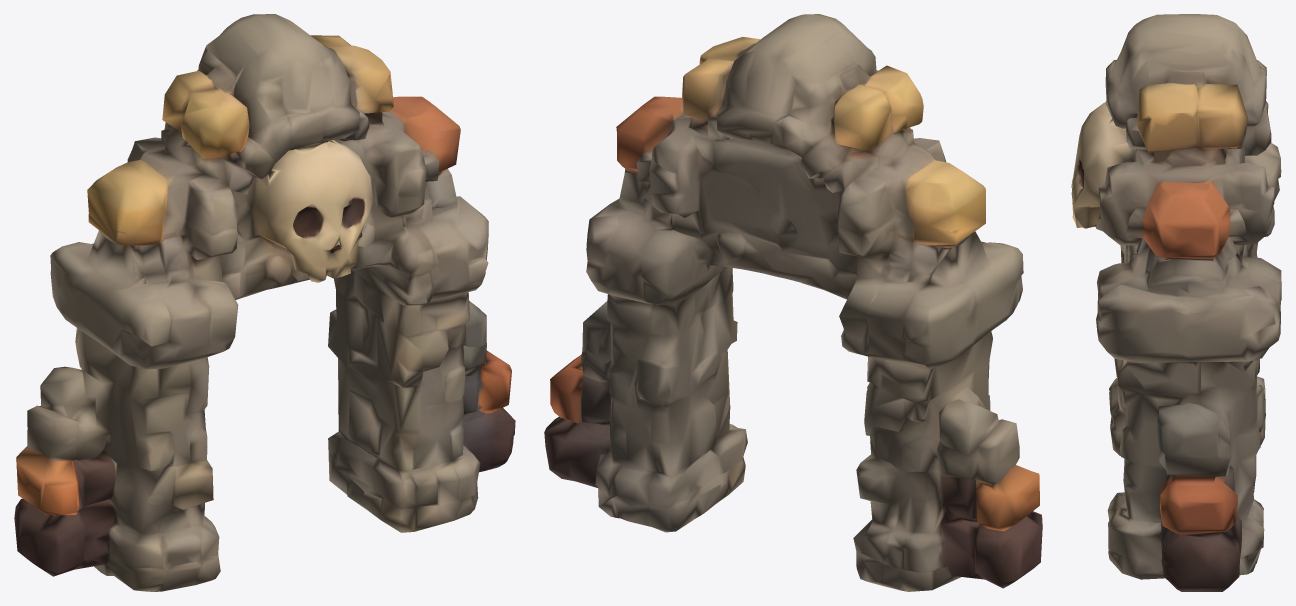
File: cr_arch-D_uun9bQ.glb
3 views of the same model, side by side, from view 1: azimuth 30°, elevation 25°; view 2: azimuth 150°, elevation 25°; view 3: azimuth 270°, elevation 25° (orthographic). The views are drawn at different scales.
Visible parts, largest first — view 1: tripo_node_5f9913a7-848f-4c3e-8133-f5ee81eae516; view 2: tripo_node_5f9913a7-848f-4c3e-8133-f5ee81eae516; view 3: tripo_node_5f9913a7-848f-4c3e-8133-f5ee81eae516.
Part boxes in pixels (box(x1,y1,x2,y2)): tripo_node_5f9913a7-848f-4c3e-8133-f5ee81eae516: box(14, 14, 515, 591); tripo_node_5f9913a7-848f-4c3e-8133-f5ee81eae516: box(544, 14, 1042, 591); tripo_node_5f9913a7-848f-4c3e-8133-f5ee81eae516: box(1071, 14, 1281, 591).
Bounding box in the file's own units: 4.3 × 4.4 × 1.73.
Materials: 1 (1 with a texture image).
